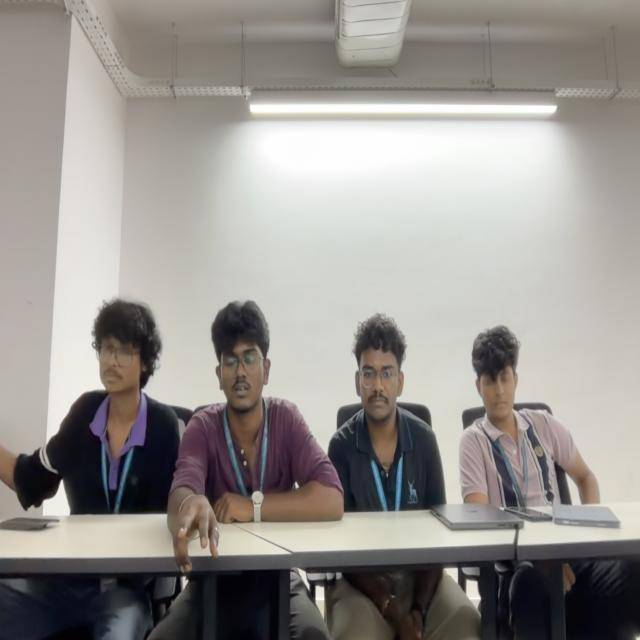Isolated: (458, 320, 602, 508)
socializing: (0, 302, 445, 520)
